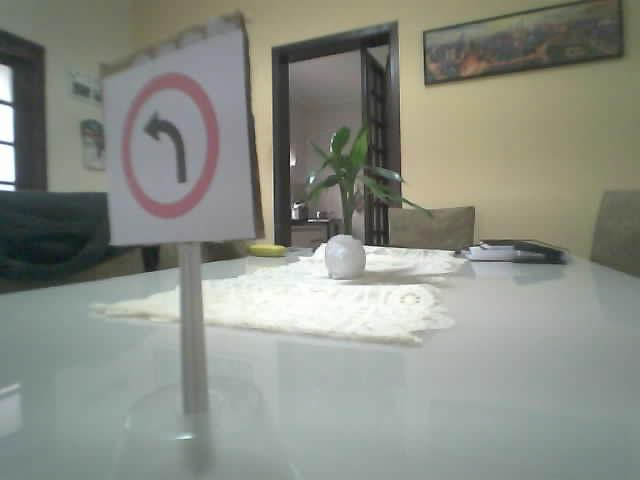R-25a_esquerda: (120, 71, 219, 218)
